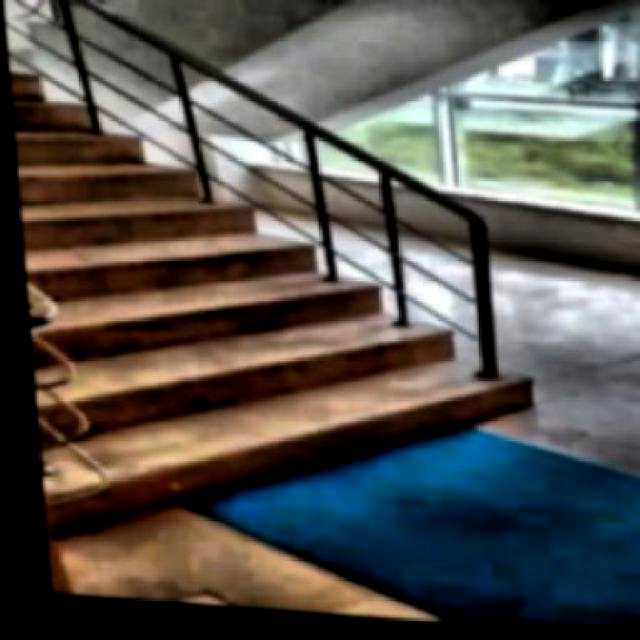stair: (5, 11, 569, 574)
